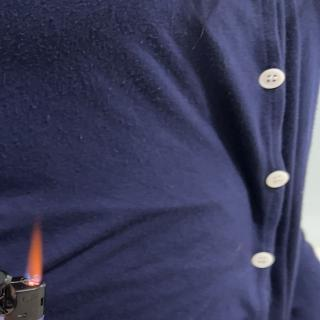fire: (24, 220, 43, 286)
